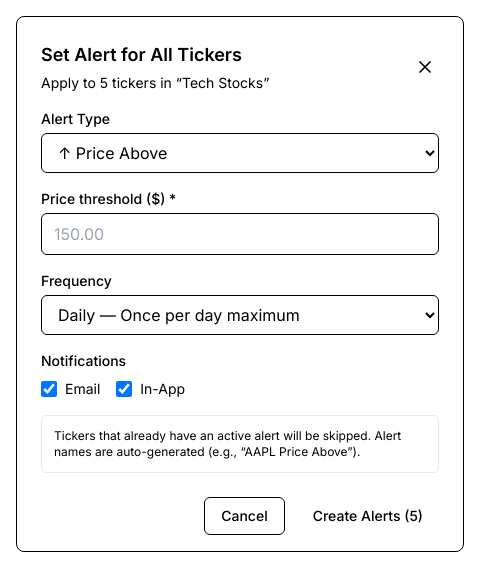
Test: BulkAlertModal — Threshold labels › shows "Volume threshold" for volume_above
Select "⬆ Volume Above" in the dropdown labelled "Alert Type" at [240, 153], box [41,133,439,173]
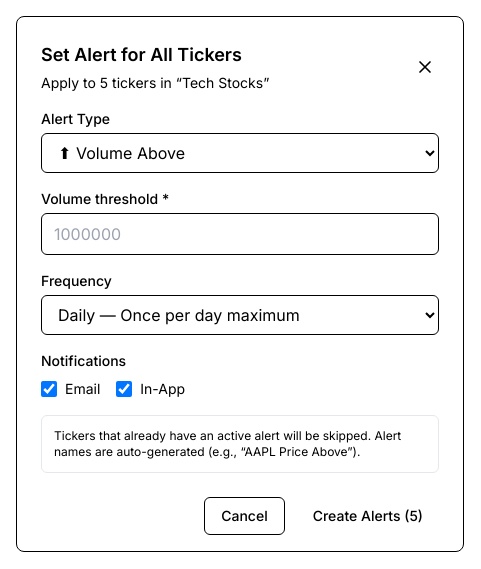
Now the text "Volume threshold *" is shown, box [41,190,169,207]
